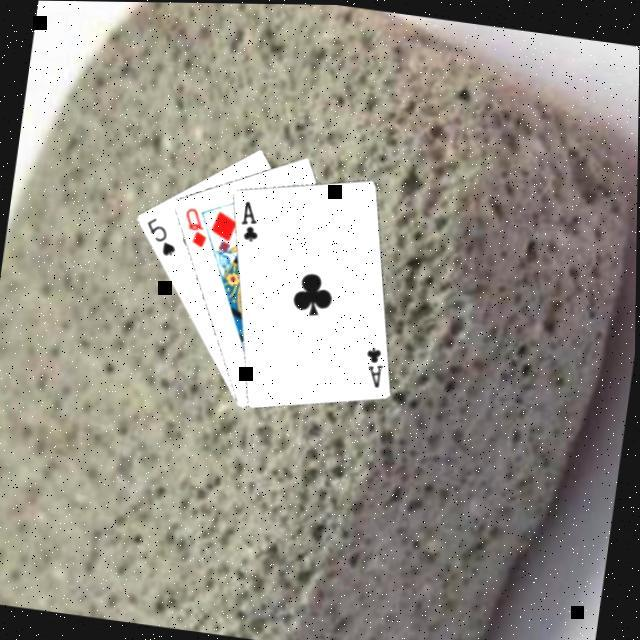5S: (137, 213, 181, 260)
AC: (356, 342, 386, 392), (233, 197, 263, 246)
QD: (175, 203, 211, 252)
